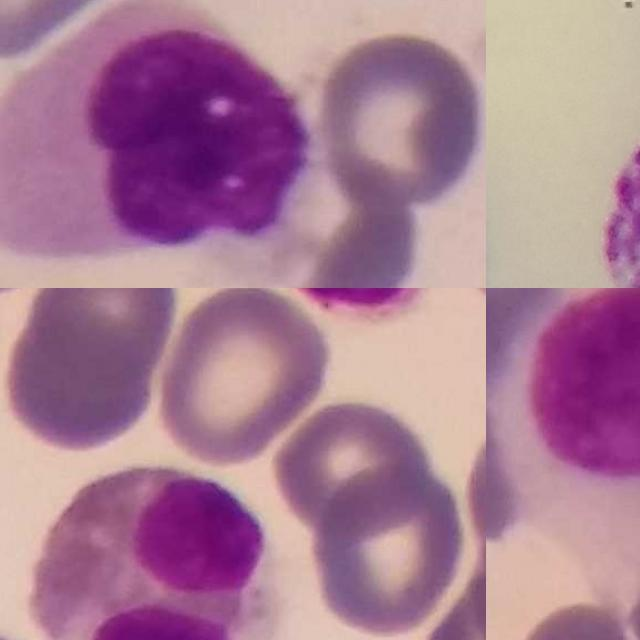Eosinophil: (28, 467, 291, 640)
Monocyte: (0, 0, 310, 260), (495, 288, 640, 578)
